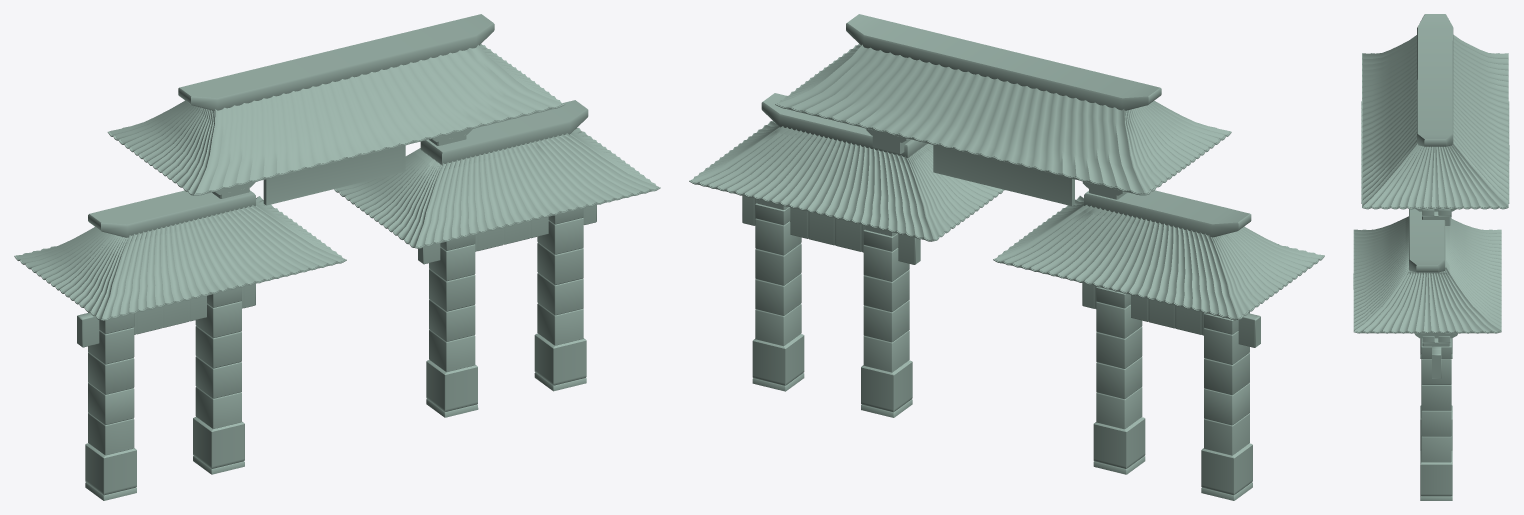
Rendered from temple_hi.FBX.
3 views of the same model, side by side, from view 1: azimuth 30°, elevation 25°; view 2: azimuth 150°, elevation 25°; view 3: azimuth 270°, elevation 25° (orthographic). The views are drawn at different scales.
Parts seen in each view (by area): view 1: polymsh285; view 2: polymsh285; view 3: polymsh285.
Boxes of the visible parts, x1=… form: polymsh285: x1=14, y1=14, x2=660, y2=500; polymsh285: x1=689, y1=14, x2=1324, y2=500; polymsh285: x1=1353, y1=14, x2=1509, y2=500.
Size of the model in its own units: 120 by 78.57 by 34.3.
